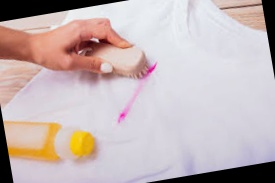lipstick: (114, 105, 133, 126), (142, 62, 158, 81), (132, 85, 142, 98)
